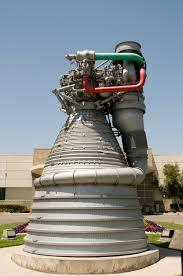thruster: (19, 112, 153, 258)
